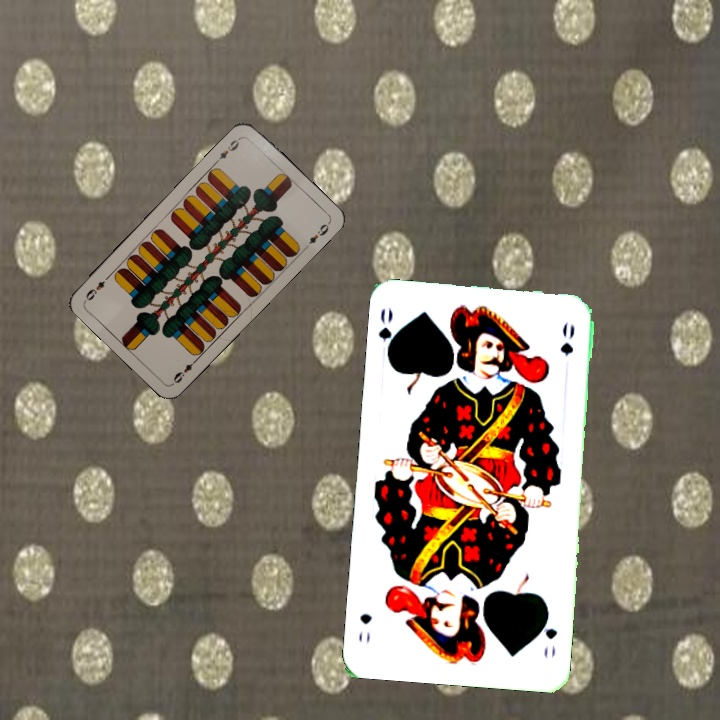E9: (212, 133, 244, 166), (169, 354, 200, 386)
GO: (374, 304, 401, 363), (537, 607, 560, 660)
